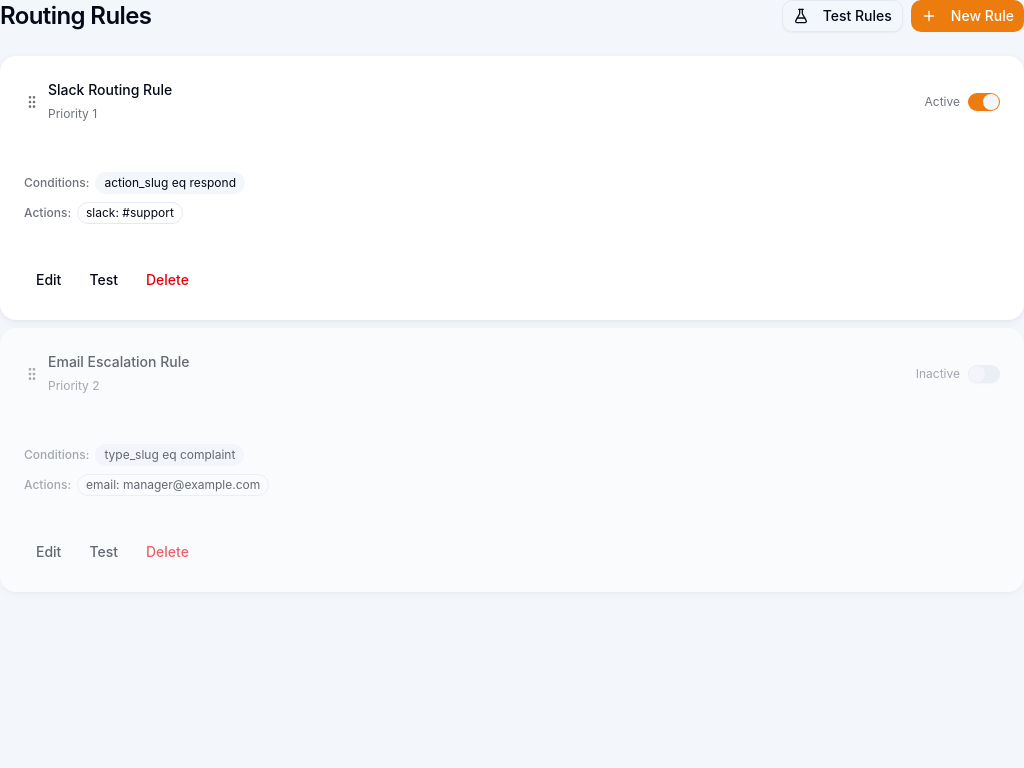
Test: RoutingRulesPage › clicking Edit button opens RuleBuilder
Click the button with aria-label "edit slack routing rule": (49, 280) [24,264,73,296]
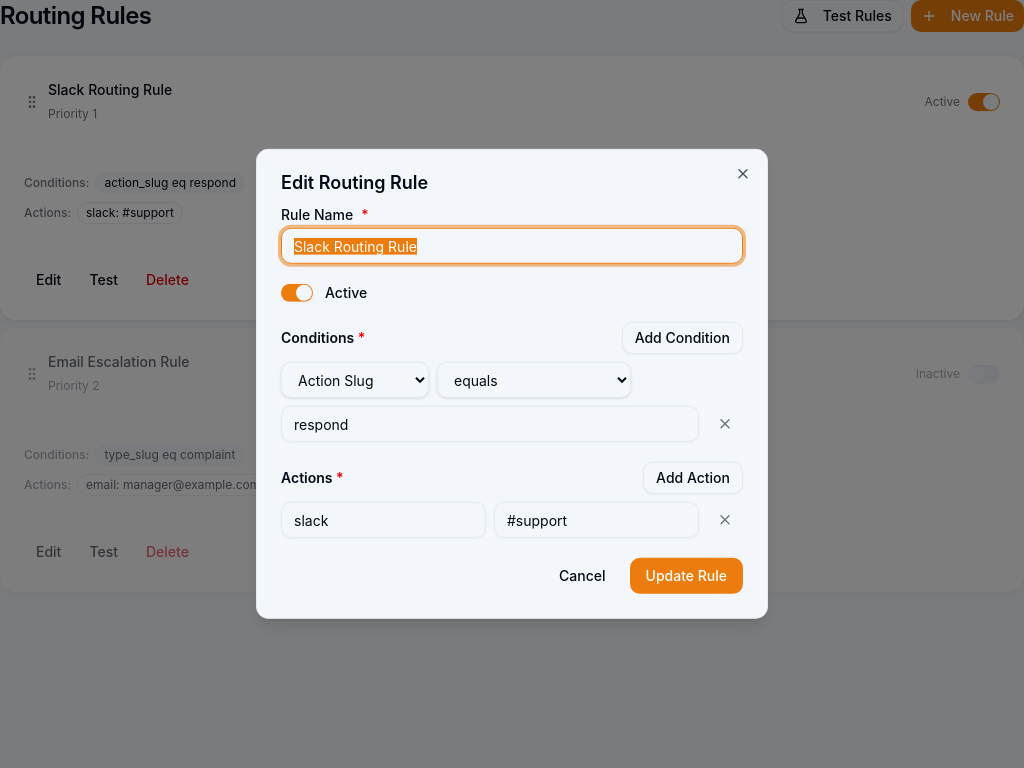
Expected: the button "Cancel" is shown, [543,558,622,594]
